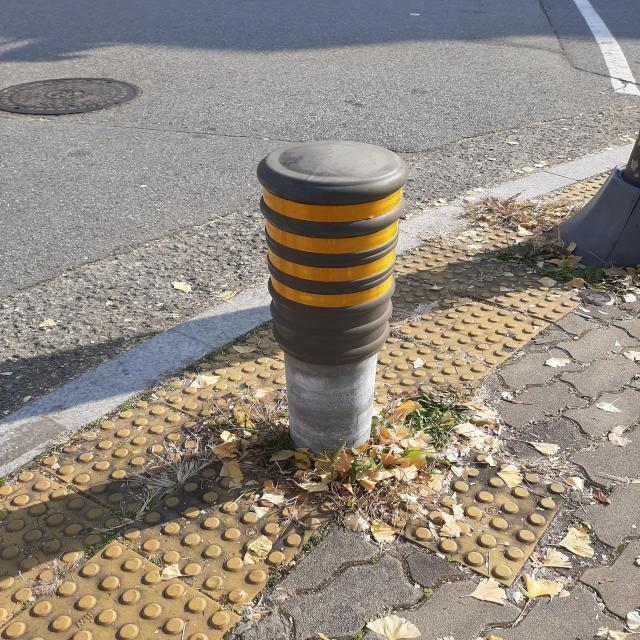pole: (250, 128, 402, 460)
